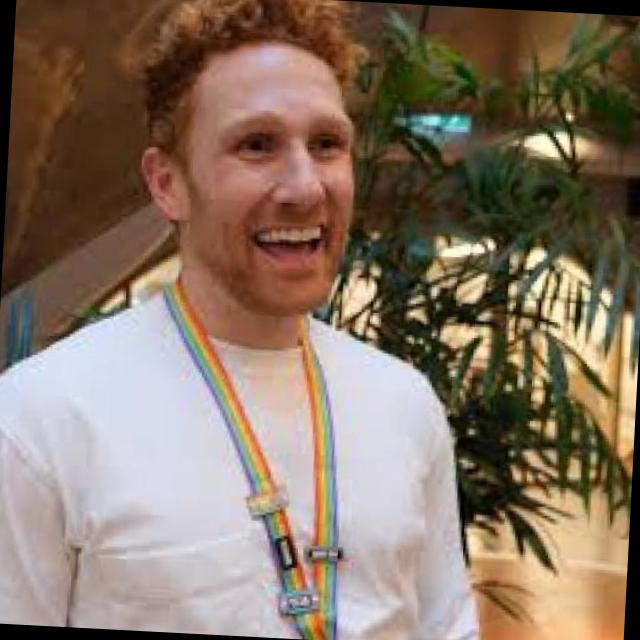id_card: (146, 282, 357, 640)
